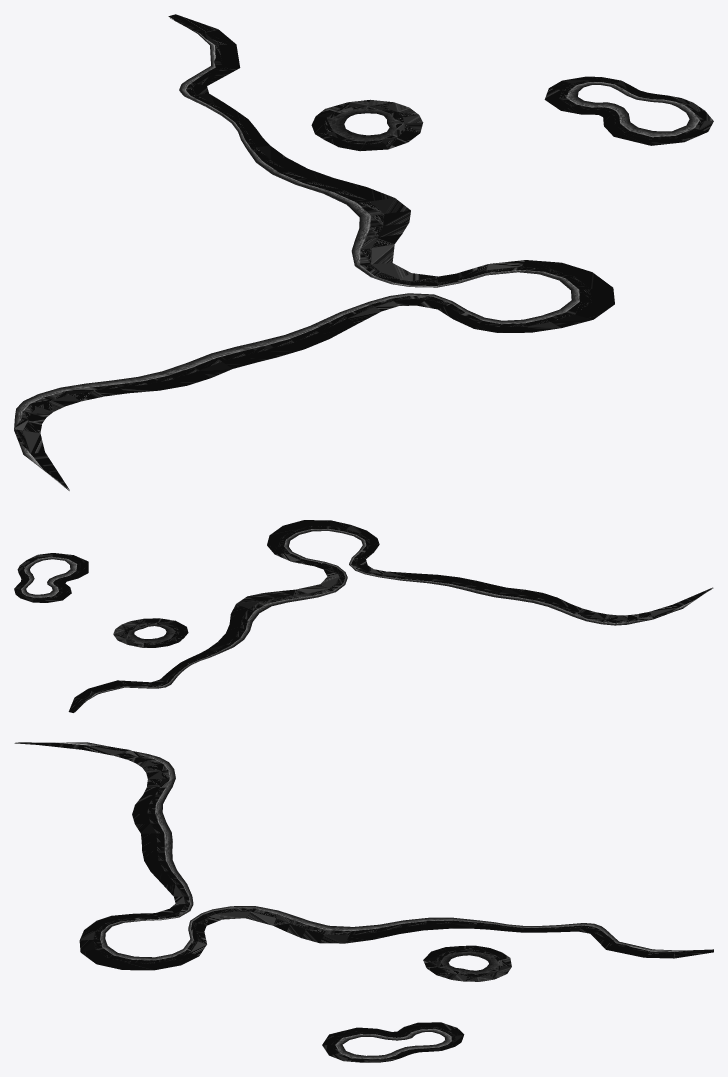
The model's file is sea.dae.
3 views of the same model, one above another, from view 1: azimuth 30°, elevation 25°; view 2: azimuth 150°, elevation 25°; view 3: azimuth 270°, elevation 25° (orthographic). The views are drawn at different scales.
Parts seen in each view (by area): view 1: m2_1, m1, m0; view 2: m2_1, m1, m0; view 3: m2_1, m1.
Part boxes in pixels (left/top/right/bottom): m2_1: left=14, top=14, right=713, bottom=489; m1: left=14, top=18, right=699, bottom=490; m0: left=15, top=18, right=689, bottom=490; m2_1: left=14, top=520, right=712, bottom=712; m1: left=21, top=529, right=712, bottom=711; m0: left=27, top=530, right=712, bottom=712; m2_1: left=15, top=742, right=713, bottom=1062; m1: left=14, top=742, right=695, bottom=1058.
Size of what is drawn, in the model's own units: 279 by 257 by 0.7.
